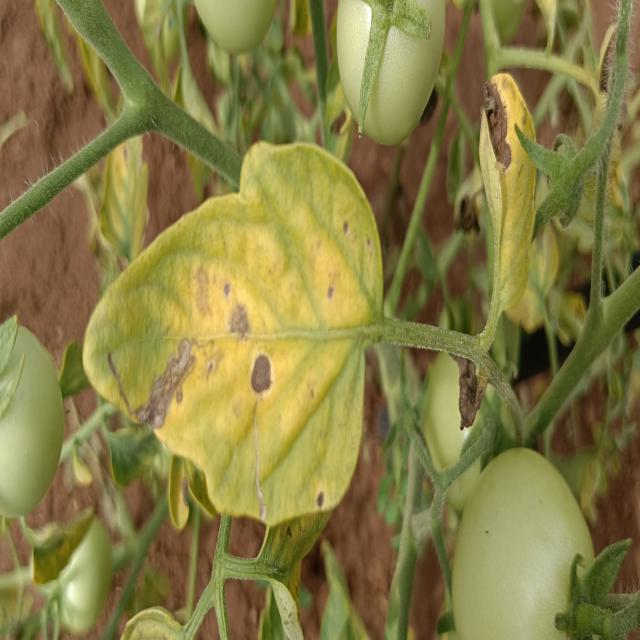tomato_early blight: (83, 140, 383, 524), (480, 71, 536, 349)
